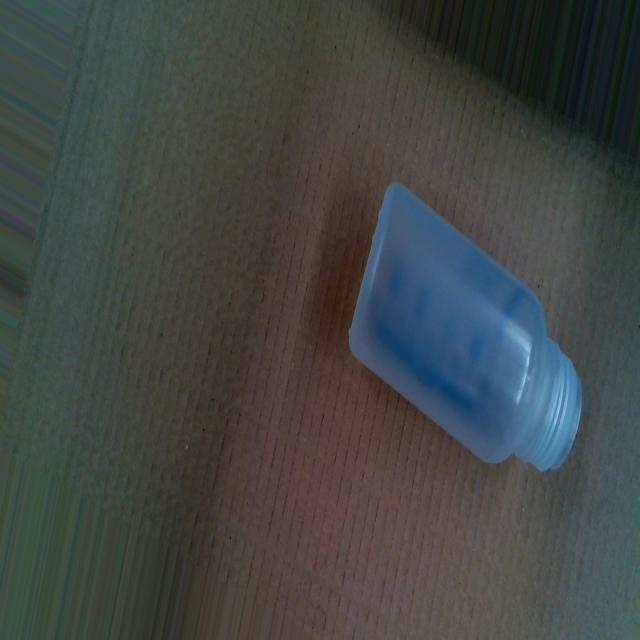bottle: (345, 176, 586, 480)
